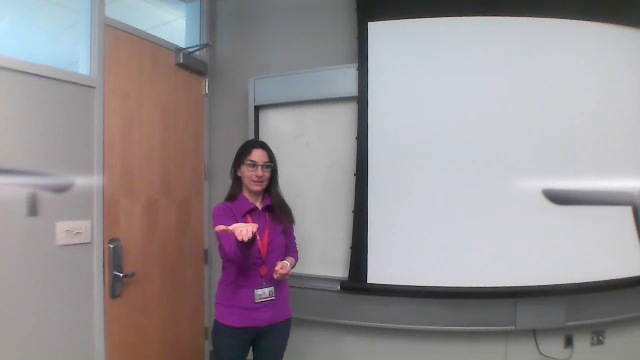land: (211, 218, 261, 248)
